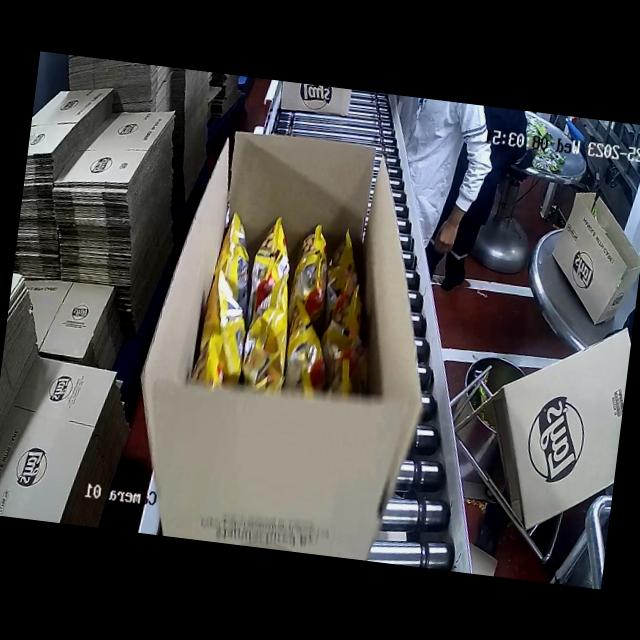salted: (166, 192, 350, 422)
